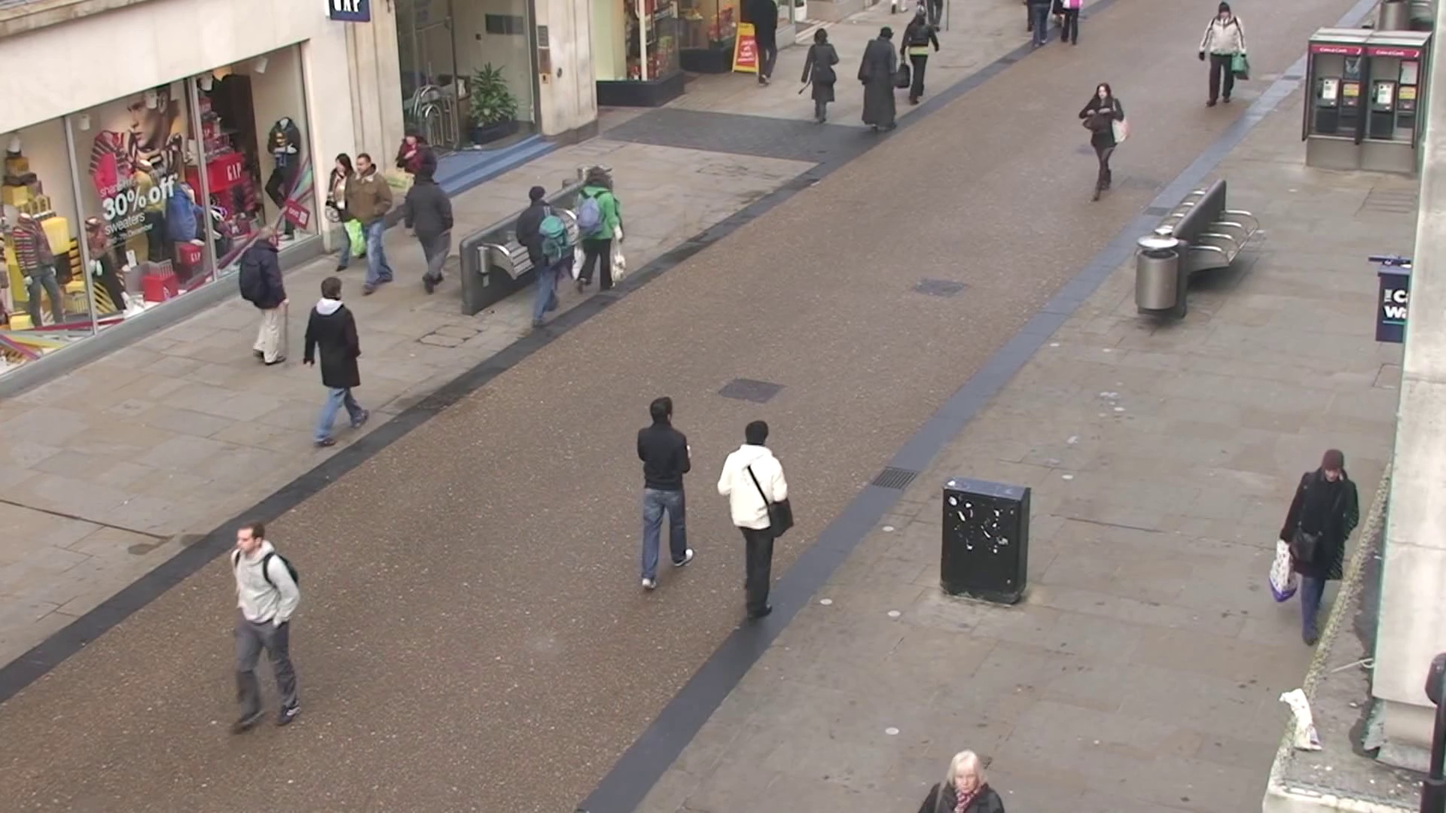person: (1277, 447, 1362, 650), (227, 525, 304, 732), (718, 419, 792, 622), (303, 276, 369, 449), (636, 397, 695, 589), (521, 184, 578, 327), (343, 153, 398, 293), (404, 150, 456, 294), (238, 228, 290, 366), (570, 164, 624, 292), (1076, 81, 1128, 201), (916, 750, 1008, 813), (1199, 1, 1250, 105), (858, 25, 902, 130), (898, 2, 938, 106), (801, 25, 840, 126)
